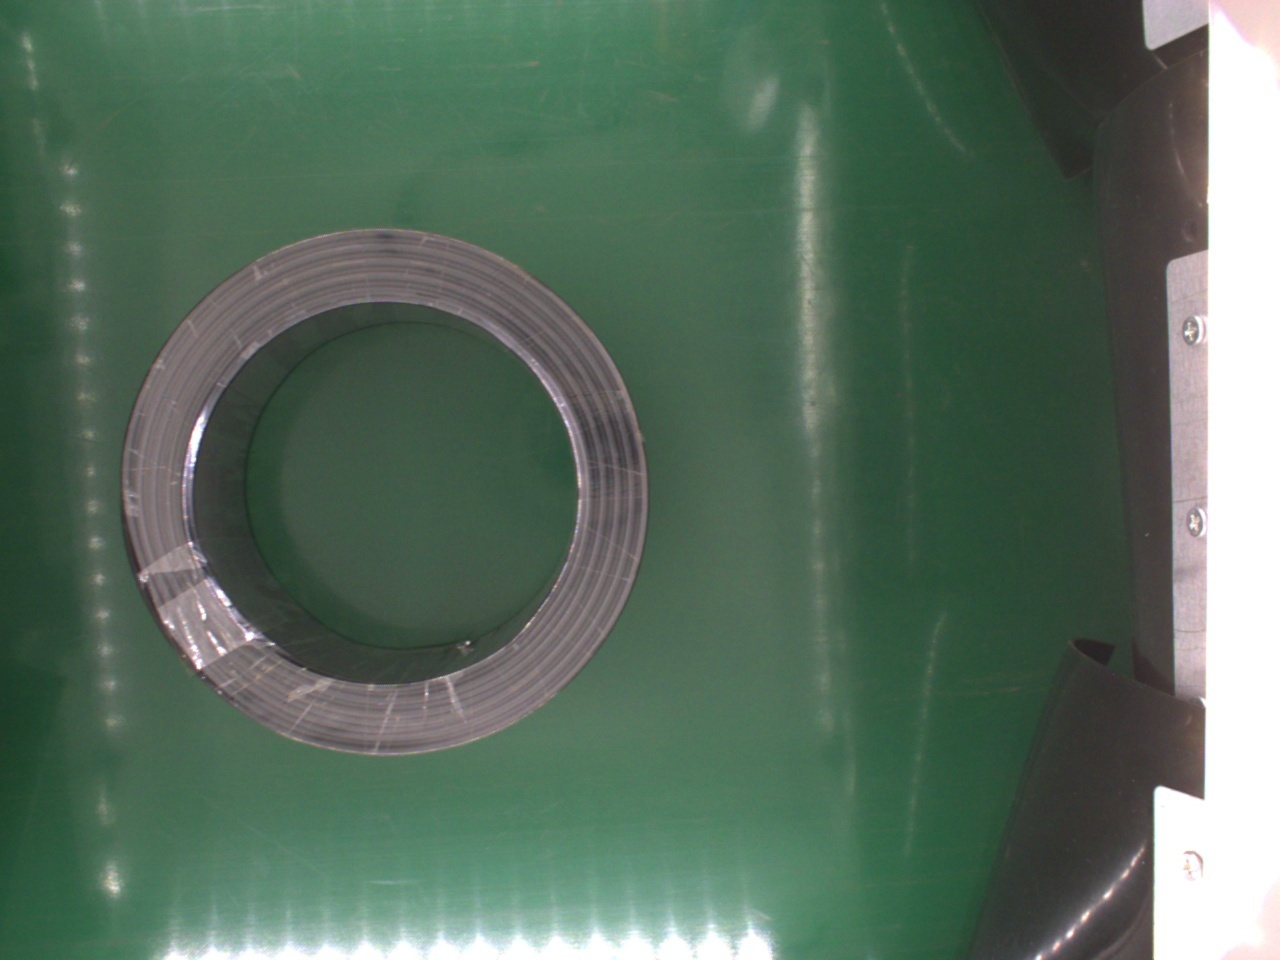black: (120, 230, 650, 760)
